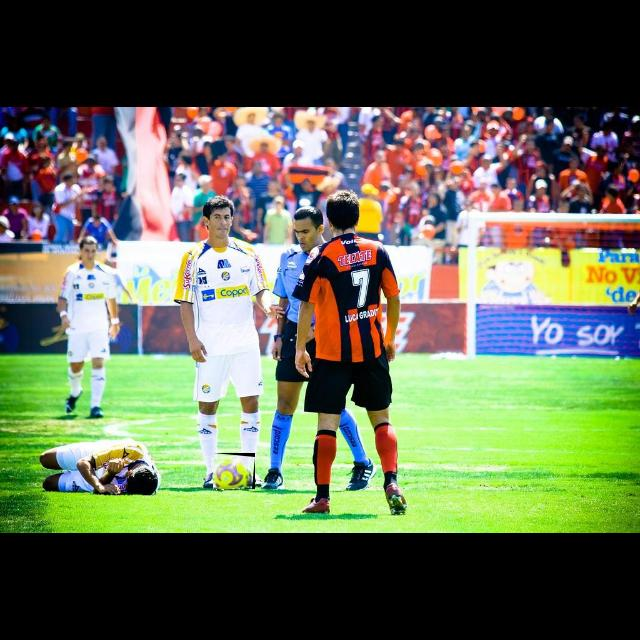Football: (213, 453, 255, 489)
